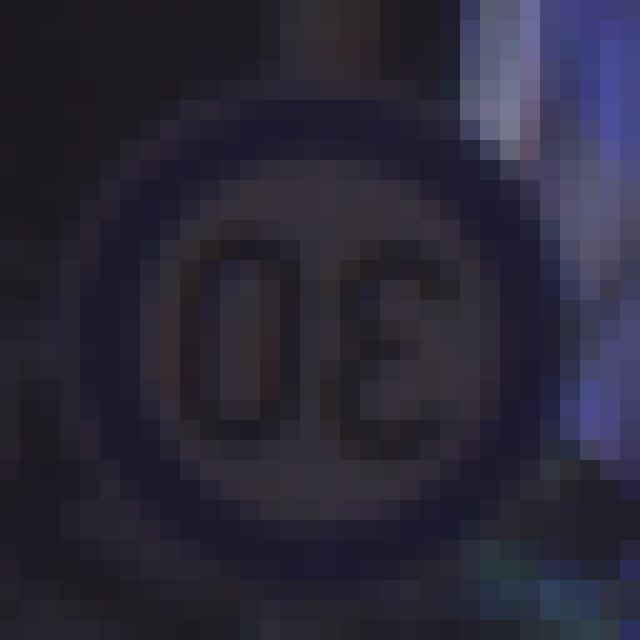SPEED LIMIT 30: (118, 160, 528, 592)
